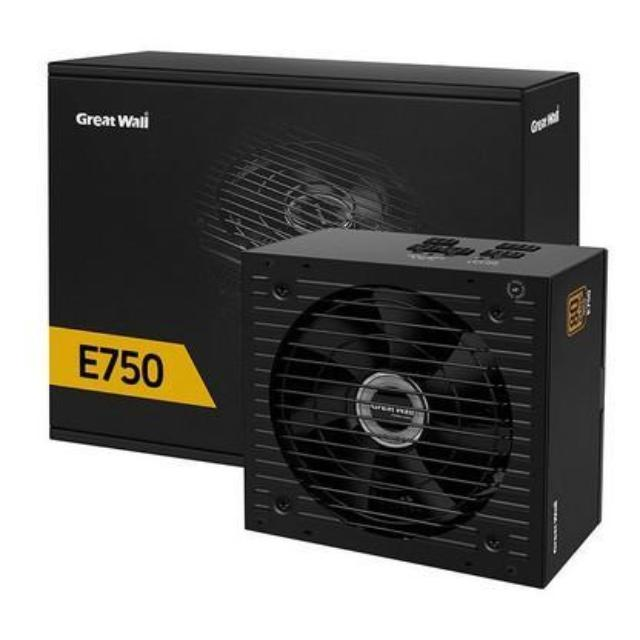PSU: (235, 224, 620, 602)
